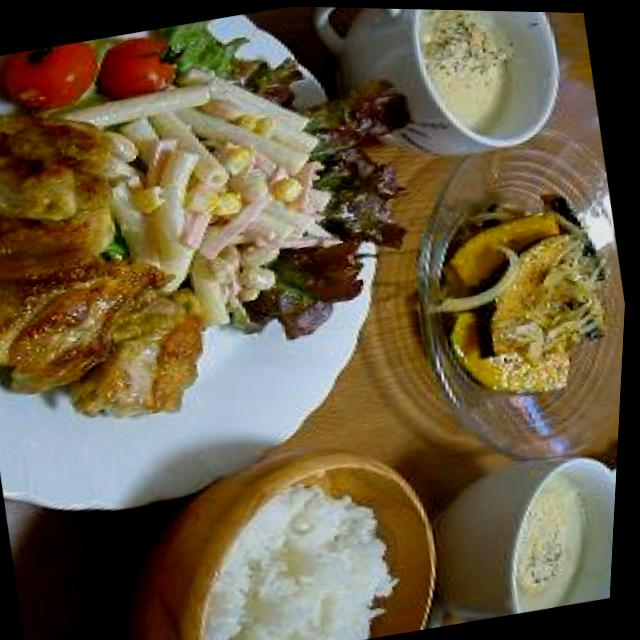米饭主食: (66, 419, 476, 640)
